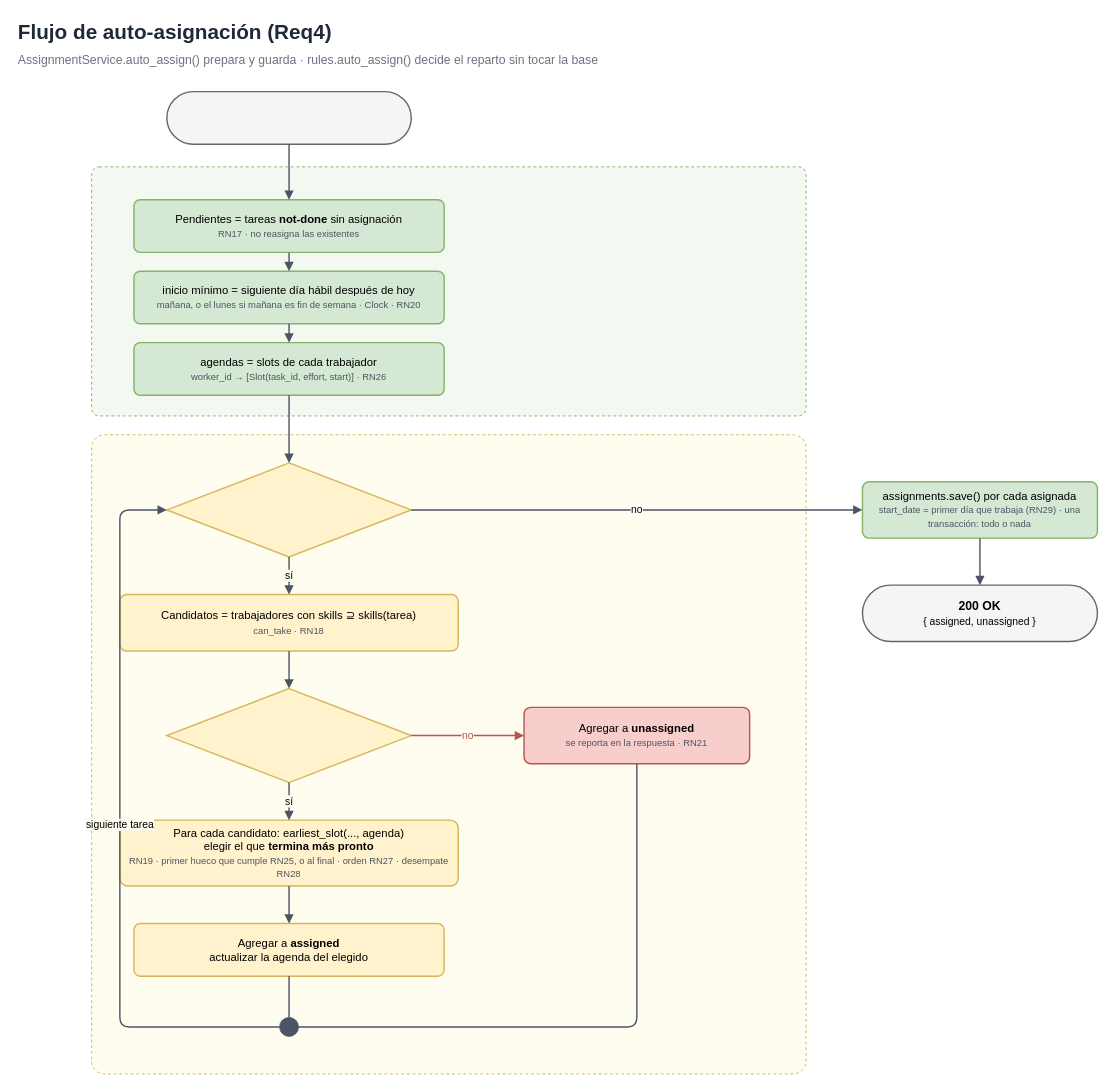
Image size: 1114x1090. Some labels were removed from this diagram. The shapes that lost their labels are listed below. From the top down, each one's box as (x1, y1, x2, y2) in pixels, then its label:
(166, 91, 412, 145): POST /api/v1/assignments/auto
(91, 166, 806, 416): application · AssignmentService.auto_assign() — lee por los puertos
(166, 462, 412, 557): ¿Quedan tareas pendientes?
(166, 687, 412, 783): ¿Hay candidatos?
(91, 434, 806, 1074): domain · rules.auto_assign() — puro, sin base de datos
